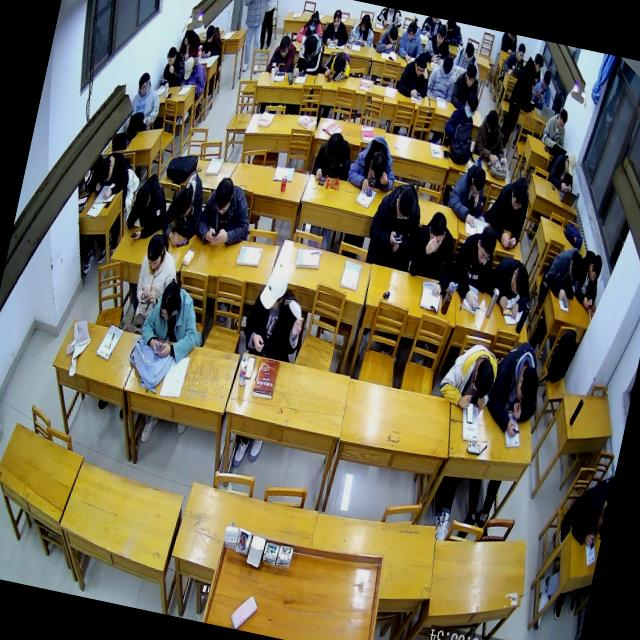bow: (480, 334, 550, 442), (434, 335, 504, 415), (156, 166, 210, 252), (344, 128, 404, 200), (120, 166, 174, 244), (482, 252, 538, 324), (536, 239, 588, 306), (90, 143, 136, 205), (319, 45, 354, 86), (448, 38, 479, 78), (373, 16, 402, 56)
down: (555, 471, 613, 551), (256, 262, 292, 316), (512, 362, 544, 410), (156, 276, 187, 325), (468, 354, 499, 402), (422, 209, 450, 258), (472, 222, 500, 268), (141, 228, 168, 274), (210, 174, 237, 219), (390, 184, 418, 224), (506, 173, 532, 214), (170, 184, 197, 223), (506, 260, 531, 300), (129, 180, 155, 218), (366, 146, 390, 184), (321, 130, 345, 164), (466, 162, 488, 198), (482, 106, 503, 140), (564, 251, 586, 283), (585, 251, 605, 284), (460, 88, 480, 120), (94, 156, 115, 186), (300, 31, 320, 61), (410, 49, 430, 79), (462, 62, 479, 91), (438, 53, 456, 80), (561, 151, 579, 178), (180, 54, 197, 80), (276, 32, 292, 59), (402, 18, 418, 44), (461, 40, 477, 66), (554, 106, 570, 132), (330, 52, 348, 74), (432, 22, 448, 46), (164, 44, 178, 68), (540, 68, 554, 92), (306, 9, 321, 31), (358, 11, 372, 34), (386, 24, 400, 47), (182, 26, 196, 48), (202, 23, 216, 45), (330, 7, 344, 29)
lookup: (514, 41, 527, 63)
sit: (238, 258, 314, 366), (133, 270, 210, 366), (360, 175, 428, 276), (126, 227, 184, 334), (402, 203, 464, 300), (190, 171, 260, 255), (444, 218, 501, 314), (498, 46, 547, 150), (478, 166, 535, 252), (442, 157, 493, 228), (121, 68, 166, 138), (468, 106, 516, 170), (309, 125, 357, 186), (439, 84, 482, 148), (570, 247, 607, 311), (394, 47, 436, 102), (290, 27, 328, 83), (422, 51, 460, 106), (448, 58, 484, 114), (543, 147, 581, 196), (394, 16, 428, 66), (420, 20, 456, 67), (538, 104, 572, 153), (264, 30, 298, 78), (320, 4, 354, 48), (158, 42, 189, 90), (177, 52, 210, 96), (528, 64, 558, 112), (292, 8, 326, 48), (346, 10, 377, 50), (499, 38, 528, 78), (198, 21, 226, 60), (176, 24, 202, 62)
